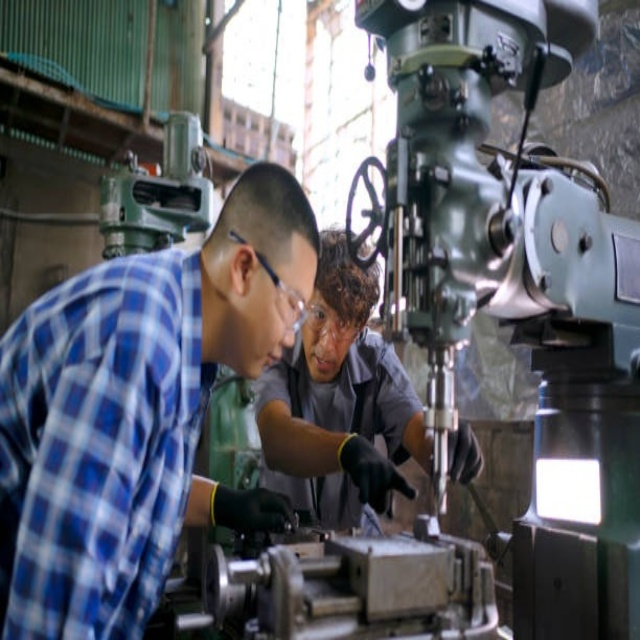Gafas: (228, 230, 311, 338), (303, 298, 360, 348)
Guantes: (337, 433, 416, 513), (211, 480, 296, 541), (444, 419, 485, 485)
Sin_mascara: (244, 342, 291, 378), (308, 347, 338, 376)
